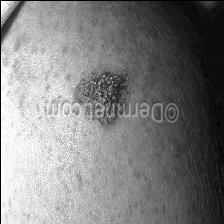Non-Cancerous Skin Condition: (74, 68, 126, 127)
